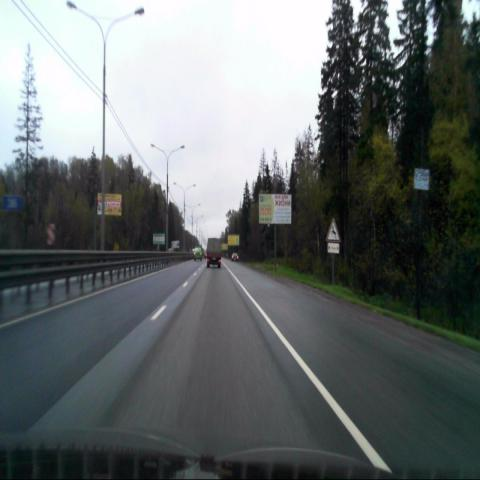1_27: (326, 218, 342, 243)
